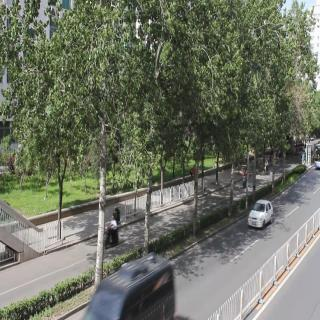Car: (85, 253, 176, 320), (248, 199, 274, 231)
